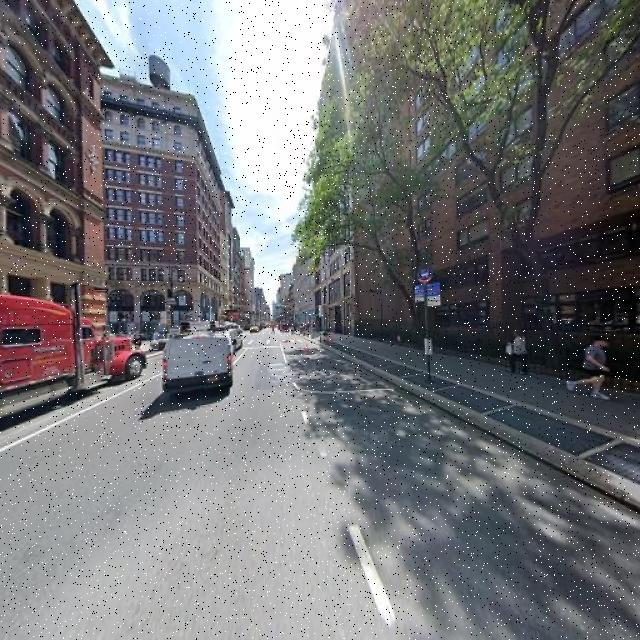Building: (400, 1, 640, 385), (1, 1, 99, 369)
